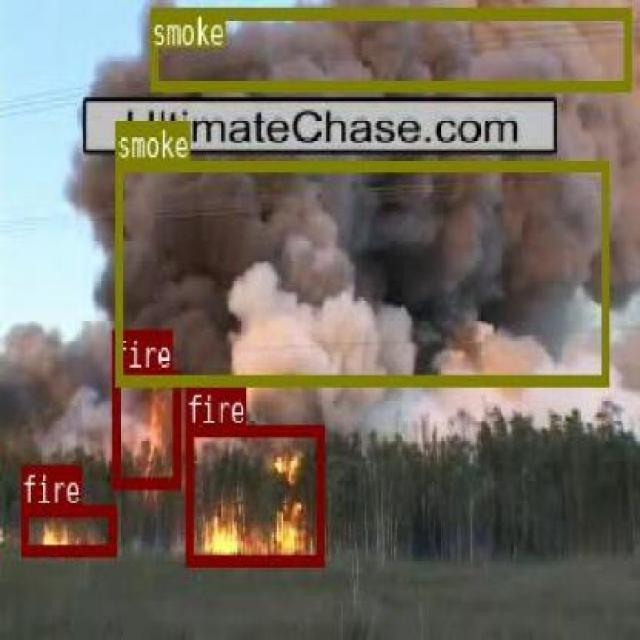Fire: (185, 424, 322, 564), (111, 370, 178, 486), (19, 504, 115, 554)
Smoke: (114, 158, 608, 384), (149, 8, 631, 88)
